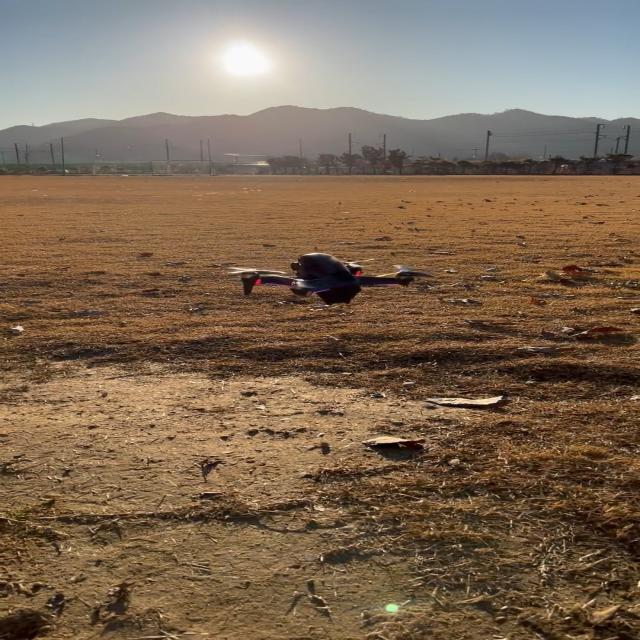drone: (224, 251, 436, 306)
